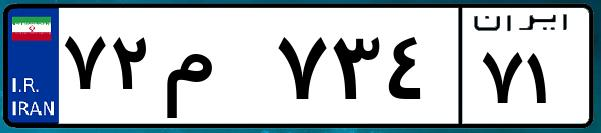1: (525, 38, 570, 115)
2: (110, 28, 158, 98)
3: (330, 28, 385, 110)
4: (385, 28, 445, 110)
7: (270, 28, 330, 110), (57, 26, 110, 100), (475, 38, 525, 113)
م: (158, 20, 270, 120)
